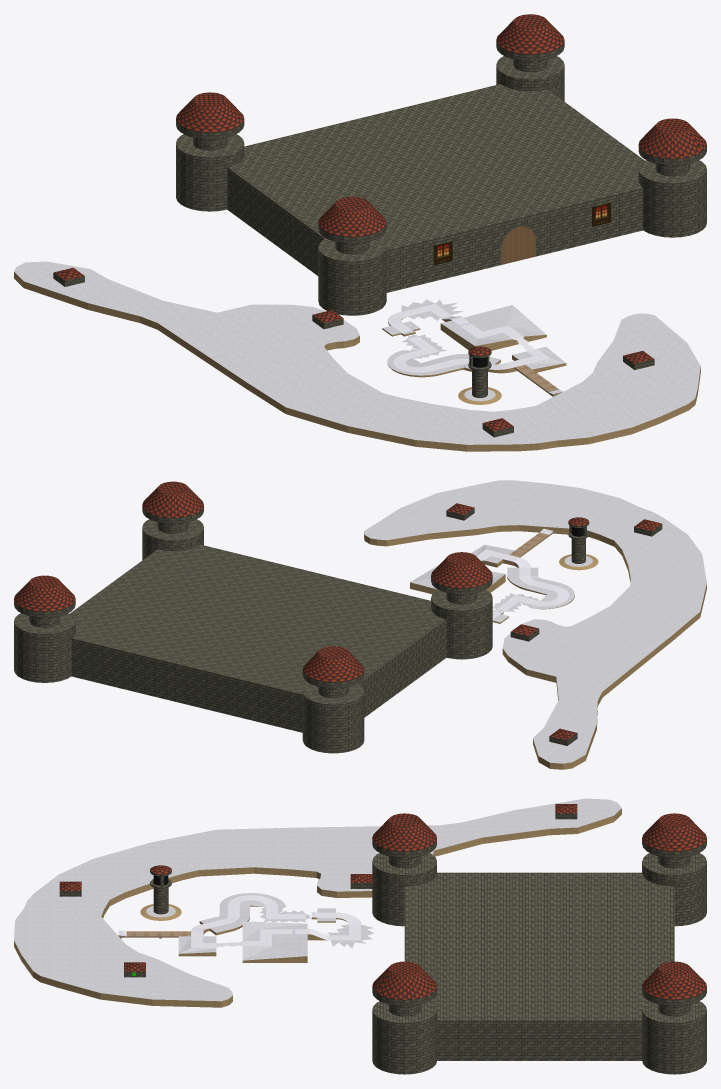
3 views of the same model, one above another, from view 1: azimuth 30°, elevation 25°; view 2: azimuth 150°, elevation 25°; view 3: azimuth 270°, elevation 25° (orthographic). The views are drawn at different scales.
Visible parts, largest first — view 1: Papyrophobia_SKP__Brick, Papyrophobia_SKP__Offroad, Papyrophobia_SKP__Roof, Papyrophobia_SKP__Cardboard, Papyrophobia_SKP__Road, Papyrophobia_SKP__Door, Papyrophobia_SKP__Windowl; view 2: Papyrophobia_SKP__Brick, Papyrophobia_SKP__Offroad, Papyrophobia_SKP__Roof, Papyrophobia_SKP__Cardboard, Papyrophobia_SKP__Road; view 3: Papyrophobia_SKP__Brick, Papyrophobia_SKP__Offroad, Papyrophobia_SKP__Roof, Papyrophobia_SKP__Cardboard, Papyrophobia_SKP__Road, Papyrophobia_SKP__CardboardBridge.
Boxes of the visible parts, x1,y1,x2,y2 form: Papyrophobia_SKP__Brick: (53,41,706,437); Papyrophobia_SKP__Offroad: (14,261,700,444); Papyrophobia_SKP__Roof: (54,14,706,431); Papyrophobia_SKP__Cardboard: (14,272,700,451); Papyrophobia_SKP__Road: (388,303,550,372); Papyrophobia_SKP__Door: (501,226,535,264); Papyrophobia_SKP__Windowl: (433,202,610,265); Papyrophobia_SKP__Brick: (14,506,662,753); Papyrophobia_SKP__Offroad: (364,480,706,763); Papyrophobia_SKP__Roof: (14,481,661,740); Papyrophobia_SKP__Cardboard: (364,525,706,769); Papyrophobia_SKP__Road: (476,549,569,619); Papyrophobia_SKP__Brick: (59,813,706,1074); Papyrophobia_SKP__Offroad: (14,798,621,1001); Papyrophobia_SKP__Roof: (59,804,706,999); Papyrophobia_SKP__Cardboard: (14,808,621,1007); Papyrophobia_SKP__Road: (191,895,361,948); Papyrophobia_SKP__CardboardBridge: (118,931,190,938).
Size of what is drawn, in the model's own units: 177111 by 28303 by 192380.
Materials: 12 (12 with a texture image).
